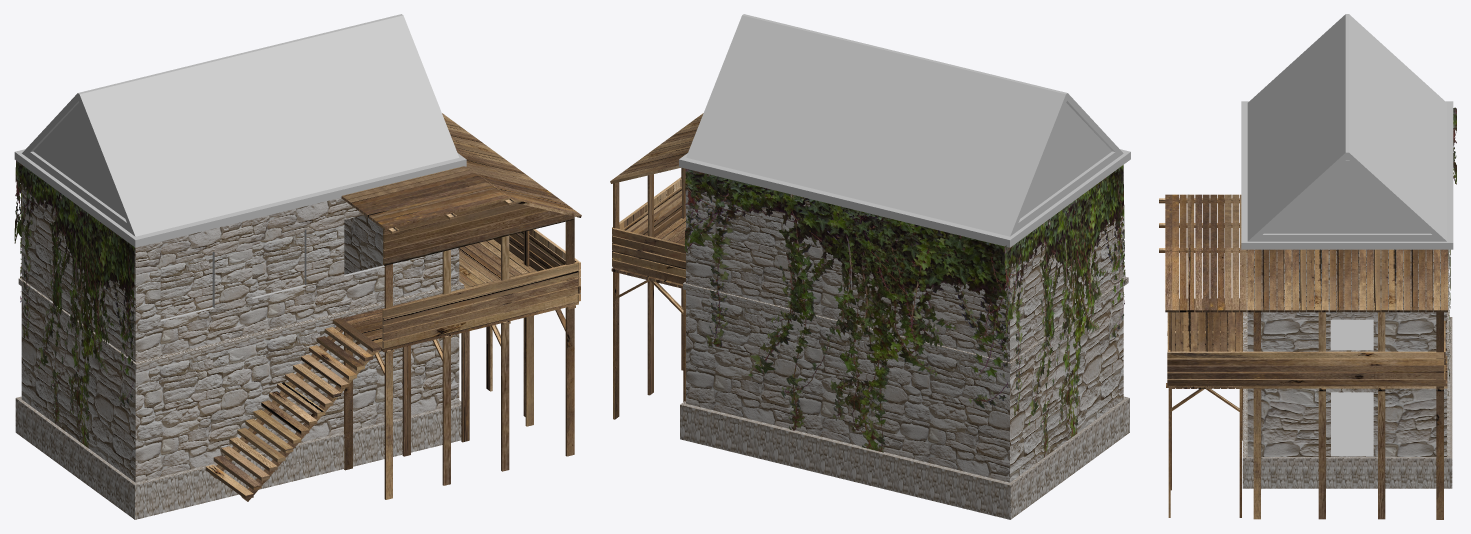
Rendered from SM_House_1.fbx.
3 renders of one model, left to right at view 1: azimuth 30°, elevation 25°; view 2: azimuth 150°, elevation 25°; view 3: azimuth 270°, elevation 25°, orthographic. The views are drawn at different scales.
Visible parts, largest first — view 1: vines.005; view 2: vines.005; view 3: vines.005.
Part boxes in pixels (x1,y1,x2,y2): vines.005: (14, 14, 581, 519); vines.005: (610, 14, 1130, 519); vines.005: (1159, 14, 1456, 519).
Bounding box in the file's own units: 1405 × 1273 × 1025.
